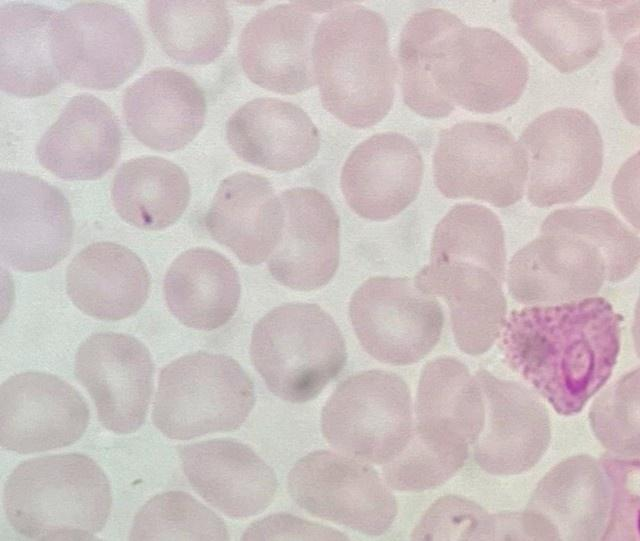Infected: (493, 295, 619, 415)
Uninfected: (310, 7, 398, 127), (286, 448, 396, 537), (251, 301, 346, 404), (3, 451, 111, 539), (152, 351, 256, 441), (317, 369, 413, 465), (399, 357, 481, 468), (173, 436, 277, 522), (429, 120, 528, 210), (416, 255, 505, 355), (345, 275, 443, 365), (71, 330, 155, 435), (516, 107, 604, 206), (429, 27, 528, 115), (468, 373, 551, 476), (237, 4, 327, 97), (48, 3, 142, 91), (261, 187, 341, 289), (508, 229, 608, 307), (526, 454, 613, 541), (204, 173, 287, 264), (425, 199, 510, 286), (342, 134, 426, 221), (0, 370, 88, 453), (39, 95, 123, 181), (3, 170, 74, 271), (122, 68, 206, 152), (225, 96, 318, 171), (65, 240, 149, 321), (162, 247, 242, 331), (2, 3, 70, 98), (513, 2, 605, 72), (110, 156, 190, 232), (146, 1, 232, 67), (398, 39, 465, 118), (587, 365, 636, 459), (399, 8, 470, 68)
